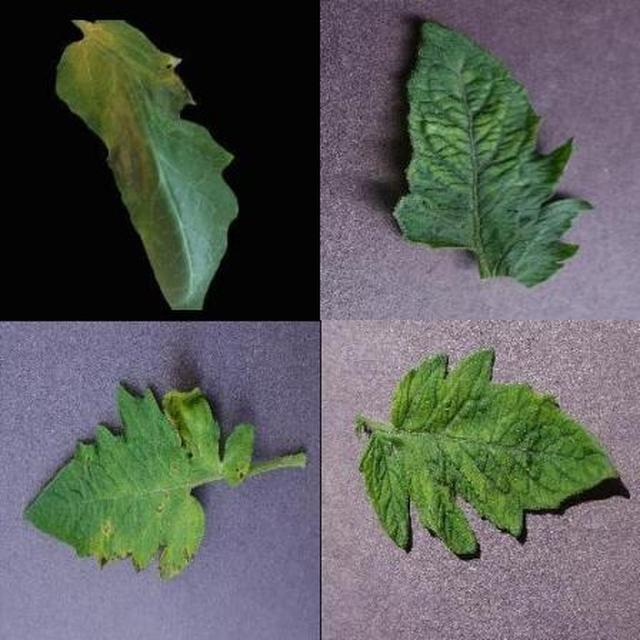Late Blight Leaf: (198, 221, 640, 640)
